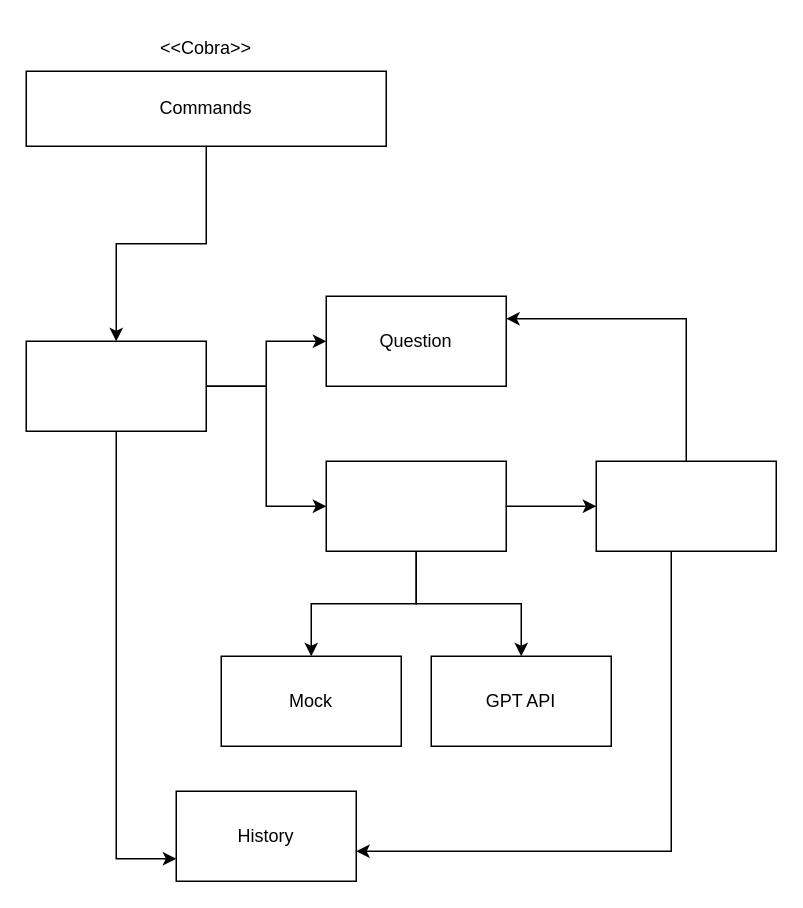
This 803x908 diagram has some shape labels left out. Each missing label, with the centre of its shape:
"Answer" belongs at point 685,505.
"Ask" belongs at point 415,505.
"CLI" belongs at point 115,385.
